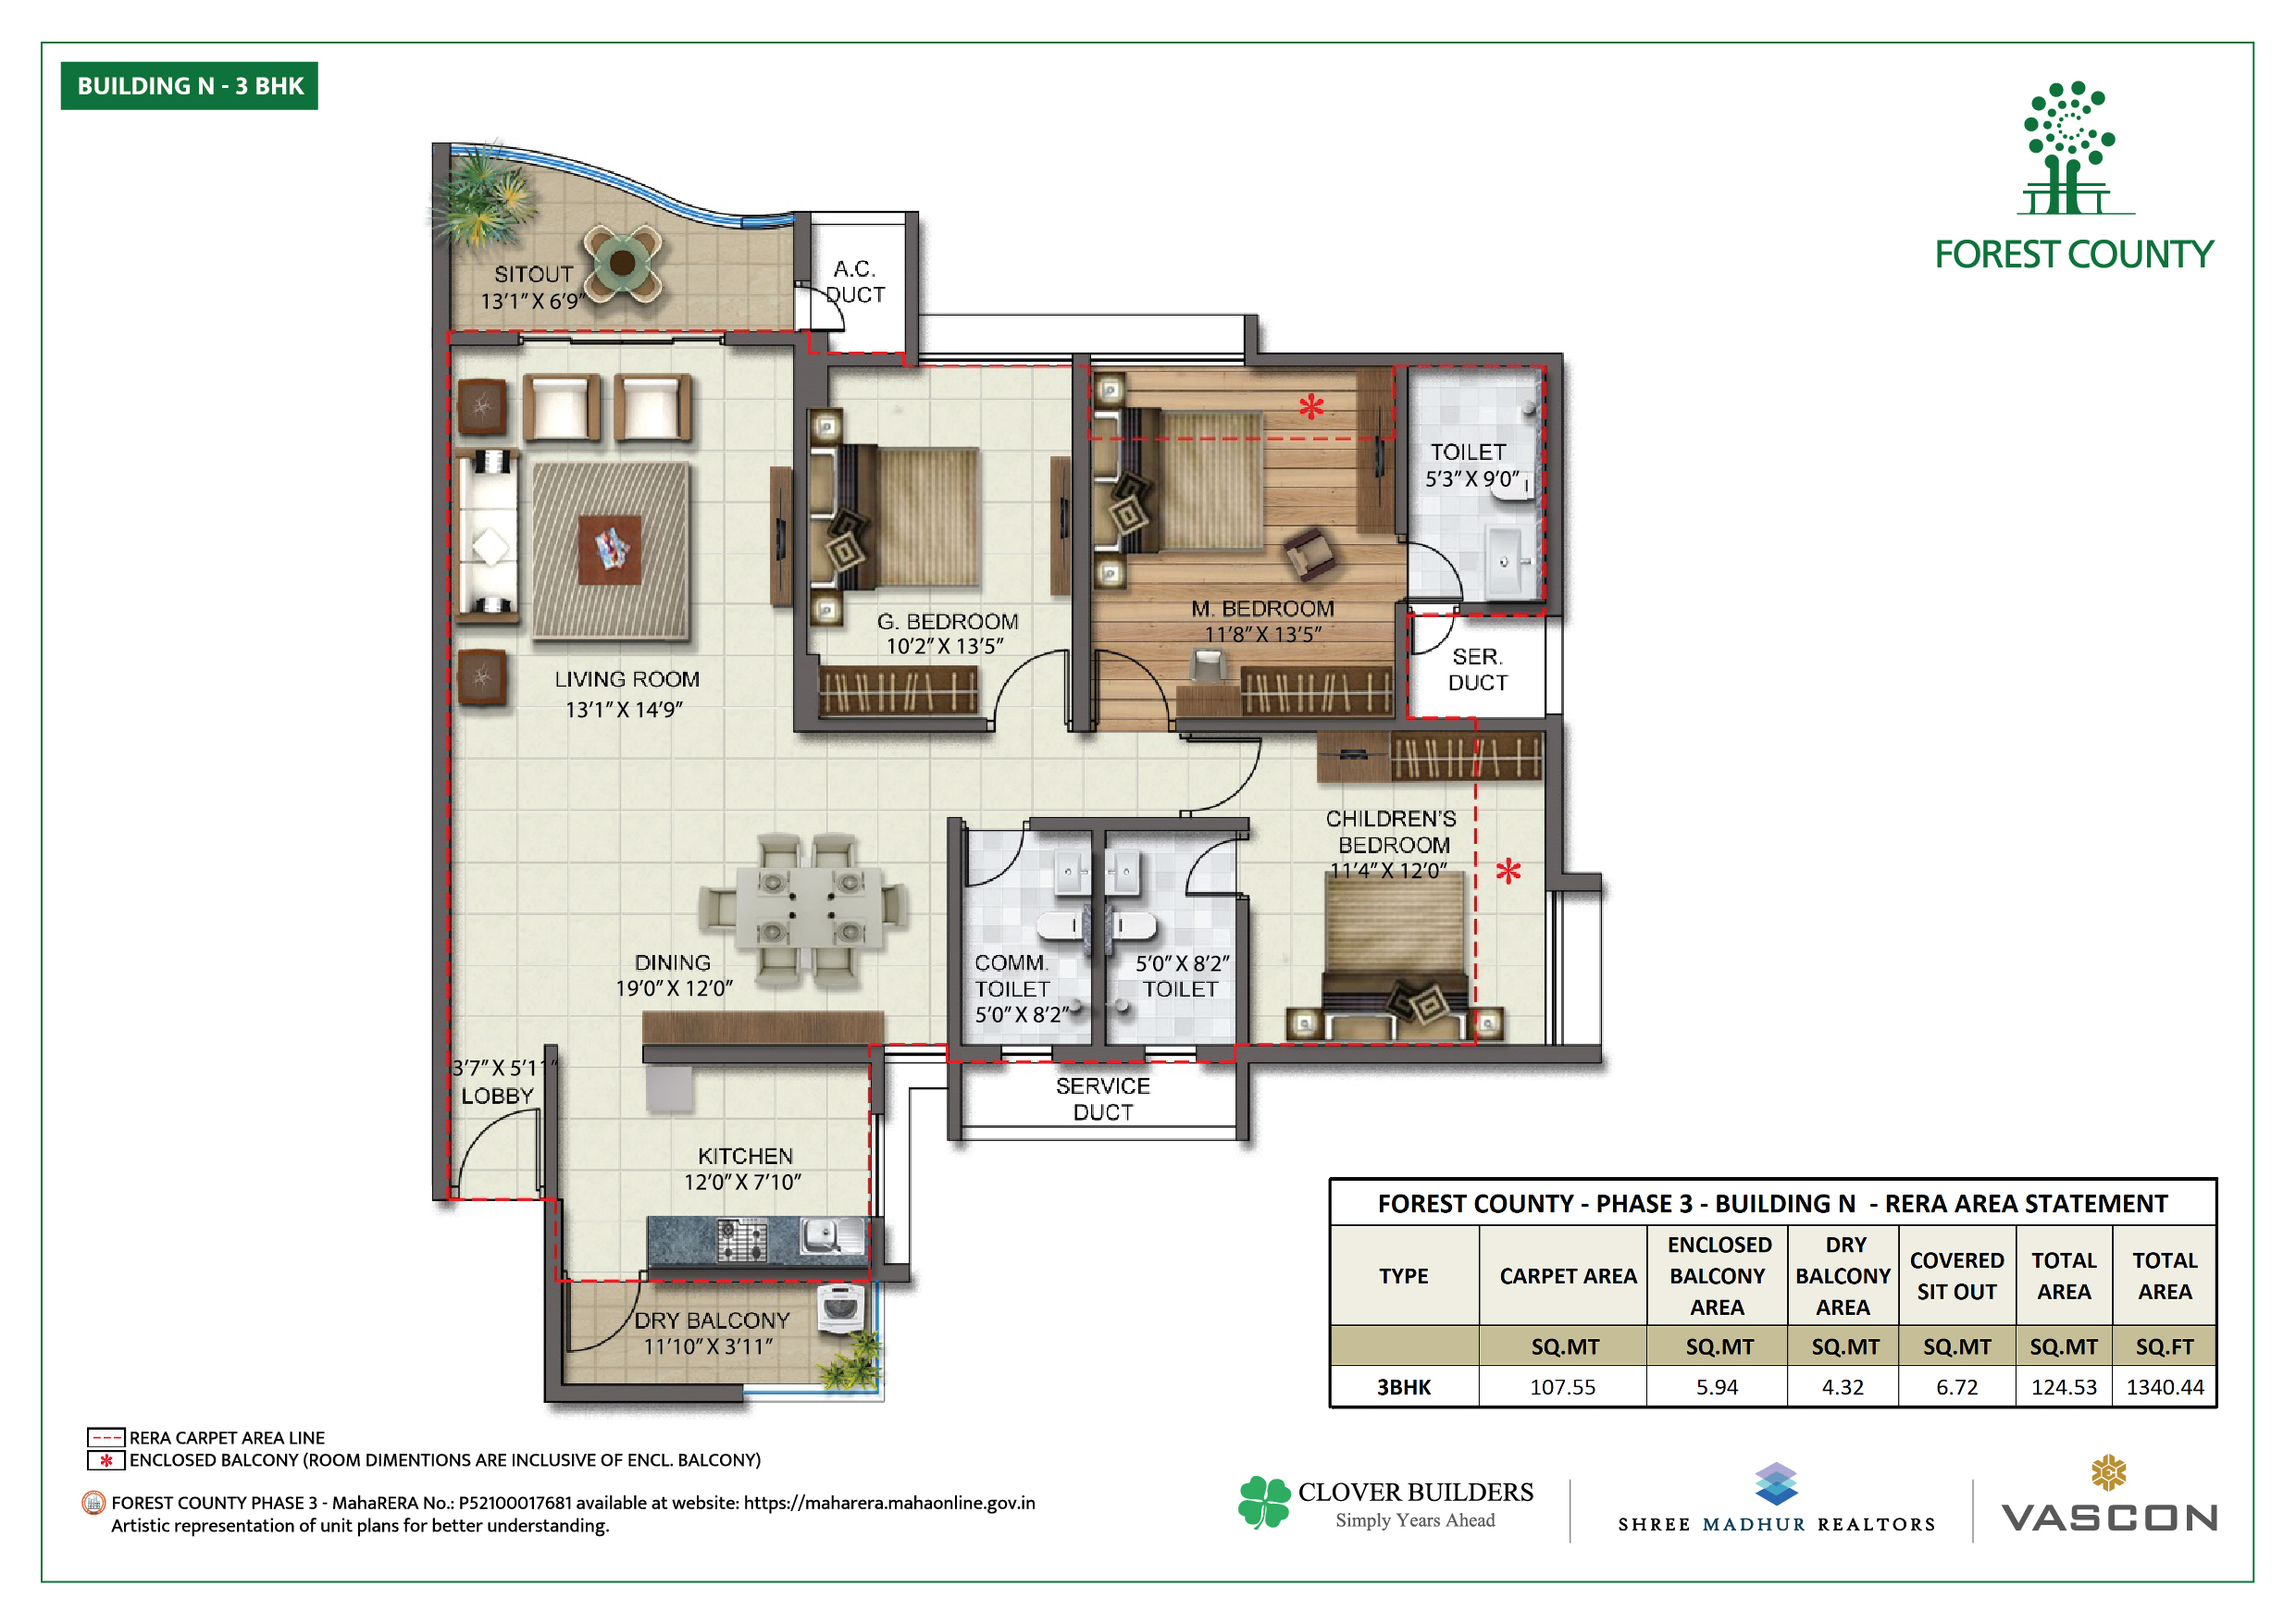door: (1181, 731, 1266, 812), (988, 652, 1069, 722), (1094, 649, 1174, 719), (960, 828, 1032, 893), (1181, 837, 1252, 902)
